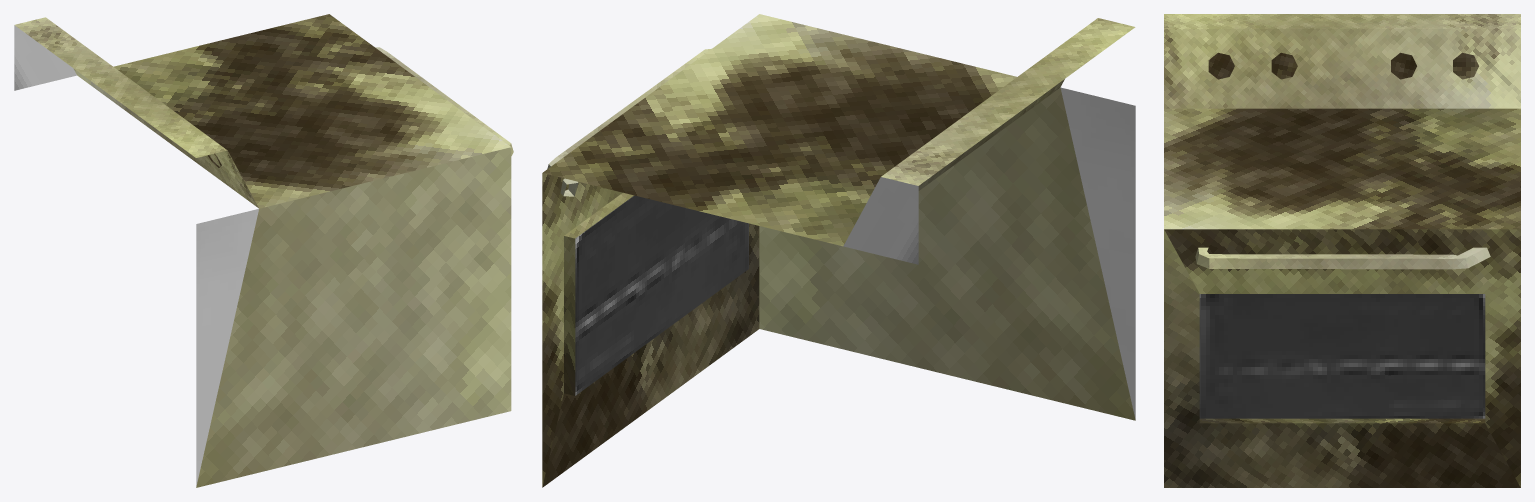
The model's file is stove.glb.
3 views of the same model, side by side, from view 1: azimuth 30°, elevation 25°; view 2: azimuth 150°, elevation 25°; view 3: azimuth 270°, elevation 25° (orthographic). The views are drawn at different scales.
Visible parts, largest first — view 1: Stove; view 2: Stove; view 3: Stove.
Boxes of the visible parts, x1,y1,x2,y2 form: Stove: (14, 14, 513, 487); Stove: (542, 14, 1135, 487); Stove: (1164, 14, 1520, 487).
Bounding box in the file's own units: 1.08 × 1 × 1.
1 material, 1 textured.
